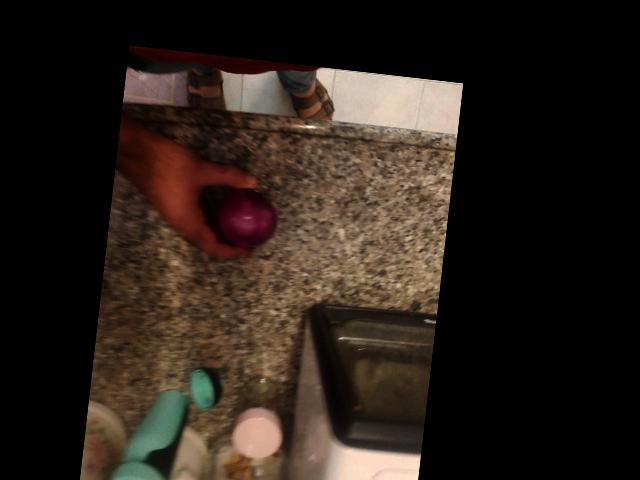onion: (189, 160, 279, 249)
